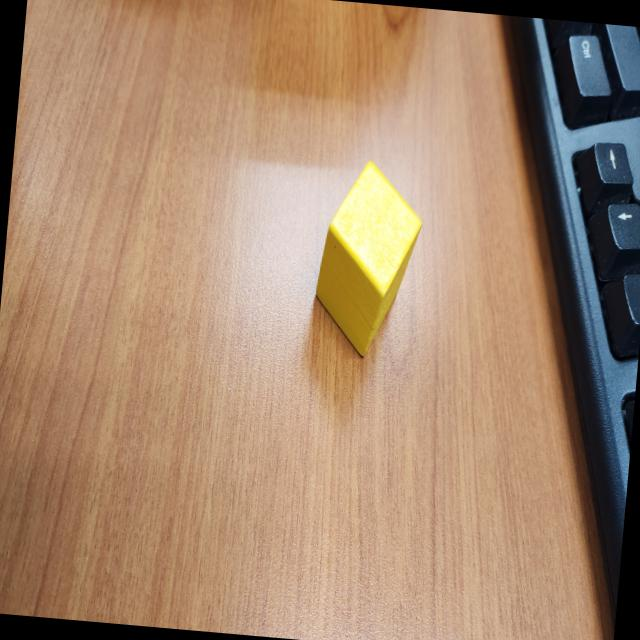yellow: (314, 161, 421, 358)
